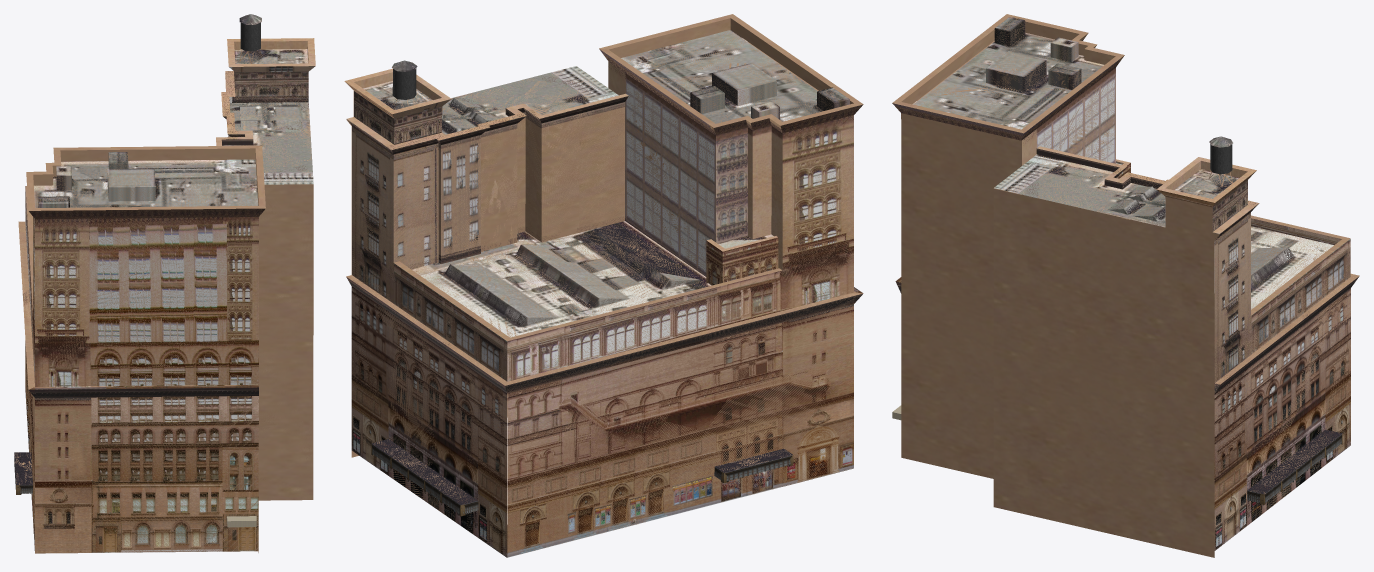
Rendered from Carneigie+Hall.dae.
3 renders of one model, left to right at view 1: azimuth 30°, elevation 25°; view 2: azimuth 150°, elevation 25°; view 3: azimuth 270°, elevation 25°, orthographic. The views are drawn at different scales.
Parts seen in each view (by area): view 1: SketchUp (×21), group_5, group_2, group_1; view 2: SketchUp (×34), group_7, group_2 (×2), group_1; view 3: group_6, SketchUp (×21), group_4, group_7, group_1.
Boxes of the visible parts, box(x1,y1,x2,y2) form: SketchUp (×21): box(18, 38, 315, 553); group_5: box(258, 184, 313, 500); group_2: box(14, 452, 32, 484); group_1: box(240, 22, 260, 51); SketchUp (×34): box(344, 14, 863, 557); group_7: box(351, 287, 507, 557); group_2 (×2): box(714, 448, 793, 483); group_1: box(392, 68, 416, 99); group_6: box(993, 189, 1219, 557); SketchUp (×21): box(892, 14, 1359, 393); group_4: box(901, 113, 1021, 478); group_7: box(1214, 288, 1350, 550); group_1: box(1210, 144, 1232, 174).
Size of the model in its own units: 2841 by 2931 by 2734.
Materials: 22 (21 with a texture image).
